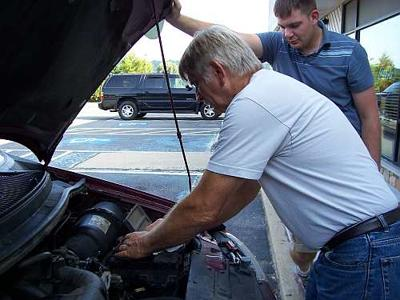person: (112, 24, 400, 300)
